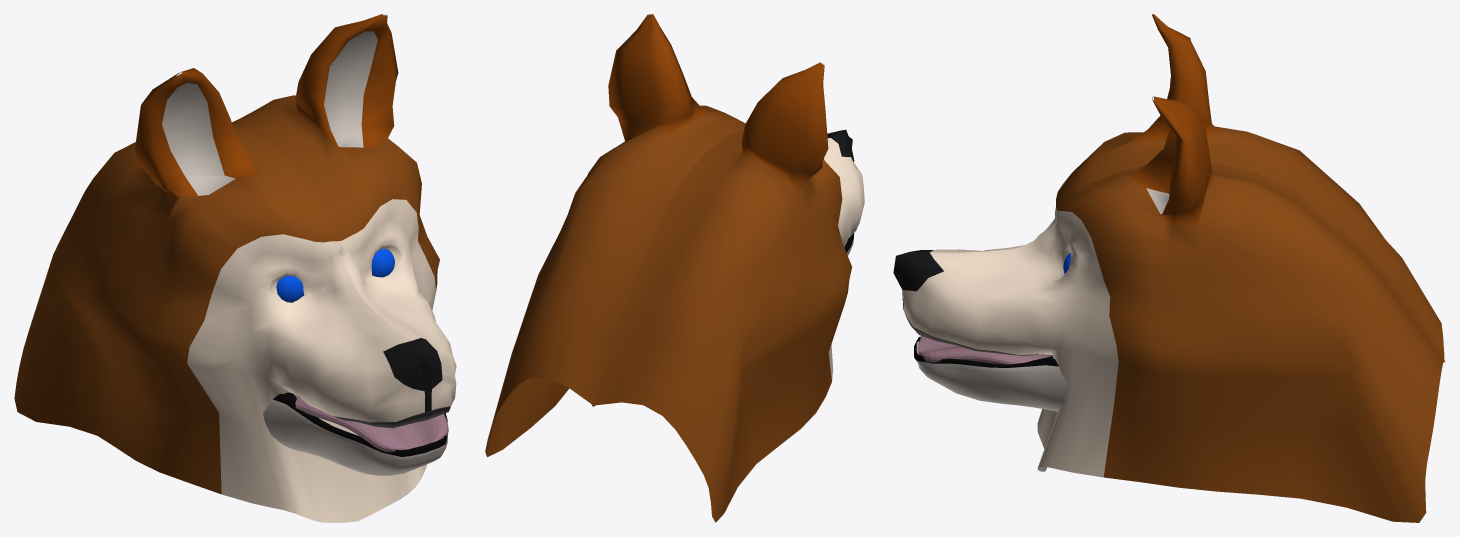
File: Dog_Head_W.fbx
3 views of the same model, side by side, from view 1: azimuth 30°, elevation 25°; view 2: azimuth 150°, elevation 25°; view 3: azimuth 270°, elevation 25° (orthographic). The views are drawn at different scales.
Visible parts, largest first — view 1: Head, Tongue, R_Eye, L_Eye; view 2: Head; view 3: Head, Tongue.
Boxes of the visible parts, x1,y1,x2,y2 form: Head: (14,14,456,522); Tongue: (295,395,448,452); R_Eye: (276,276,303,302); L_Eye: (371,249,394,277); Head: (485,14,864,522); Head: (893,14,1445,522); Tongue: (918,336,1052,364).
Size of the model in its own units: 41.19 by 60.87 by 73.63.
